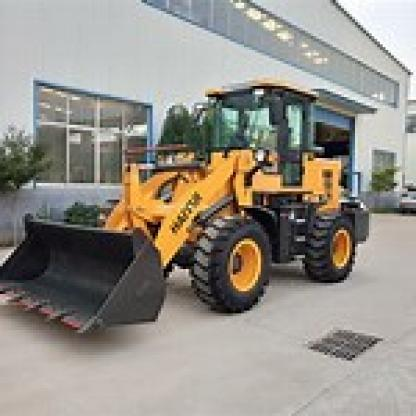excavator: (3, 8, 413, 383)
